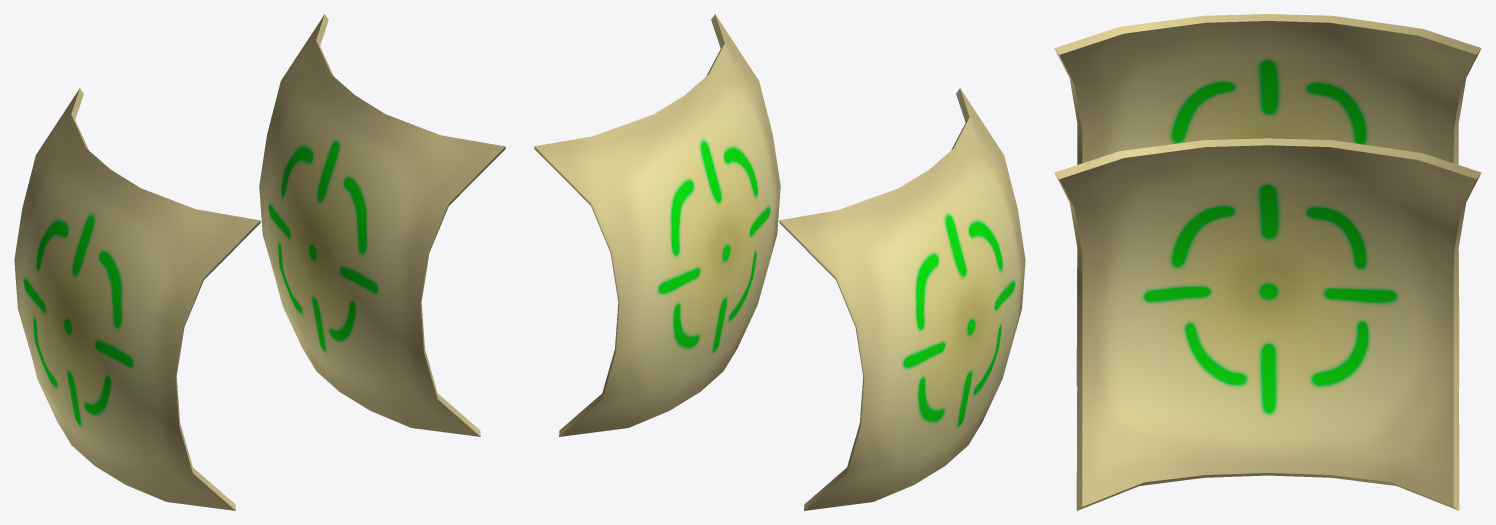
Rendered from Velas_1.fbx.
3 views of the same model, side by side, from view 1: azimuth 30°, elevation 25°; view 2: azimuth 150°, elevation 25°; view 3: azimuth 270°, elevation 25° (orthographic). The views are drawn at different scales.
Visible parts, largest first — view 1: Vela_Trasera_1, Vela_Delantera_1; view 2: Vela_Trasera_1, Vela_Delantera_1; view 3: Vela_Trasera_1, Vela_Delantera_1.
Boxes of the visible parts, x1=… form: Vela_Trasera_1: x1=259, y1=14, x2=505, y2=436; Vela_Delantera_1: x1=14, y1=88, x2=260, y2=510; Vela_Trasera_1: x1=534, y1=14, x2=780, y2=436; Vela_Delantera_1: x1=779, y1=88, x2=1025, y2=510; Vela_Trasera_1: x1=1054, y1=138, x2=1481, y2=510; Vela_Delantera_1: x1=1054, y1=14, x2=1481, y2=386.
Size of the model in its own units: 321 by 271 by 288.
